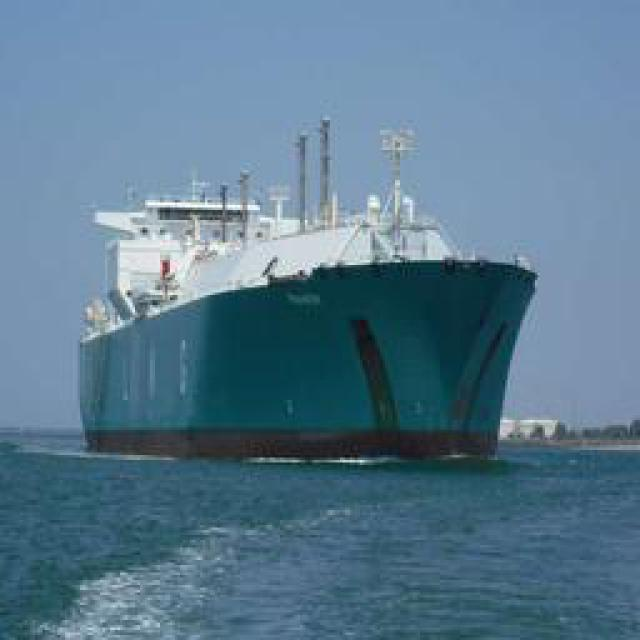Ship: (66, 164, 539, 457)
